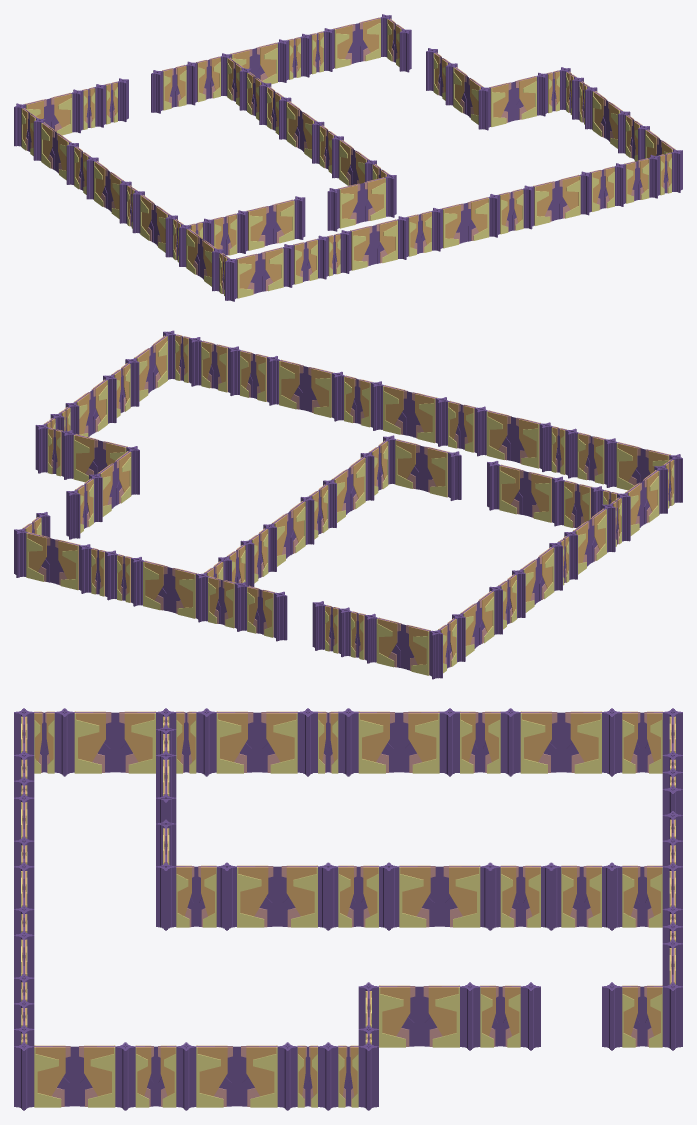
The model's file is level1n.fbx.
The picture shows the model from 3 angles, top to bottom: view 1: azimuth 30°, elevation 25°; view 2: azimuth 150°, elevation 25°; view 3: azimuth 270°, elevation 25°; orthographic projection. The views are drawn at different scales.
Parts seen in each view (by area): view 1: Level1; view 2: Level1; view 3: Level1.
Part boxes in pixels (x1=…): Level1: x1=14, y1=14, x2=682, y2=301; Level1: x1=14, y1=330, x2=682, y2=679; Level1: x1=14, y1=708, x2=682, y2=1110.
Size of the model in its own units: 7999 by 650 by 6599.
